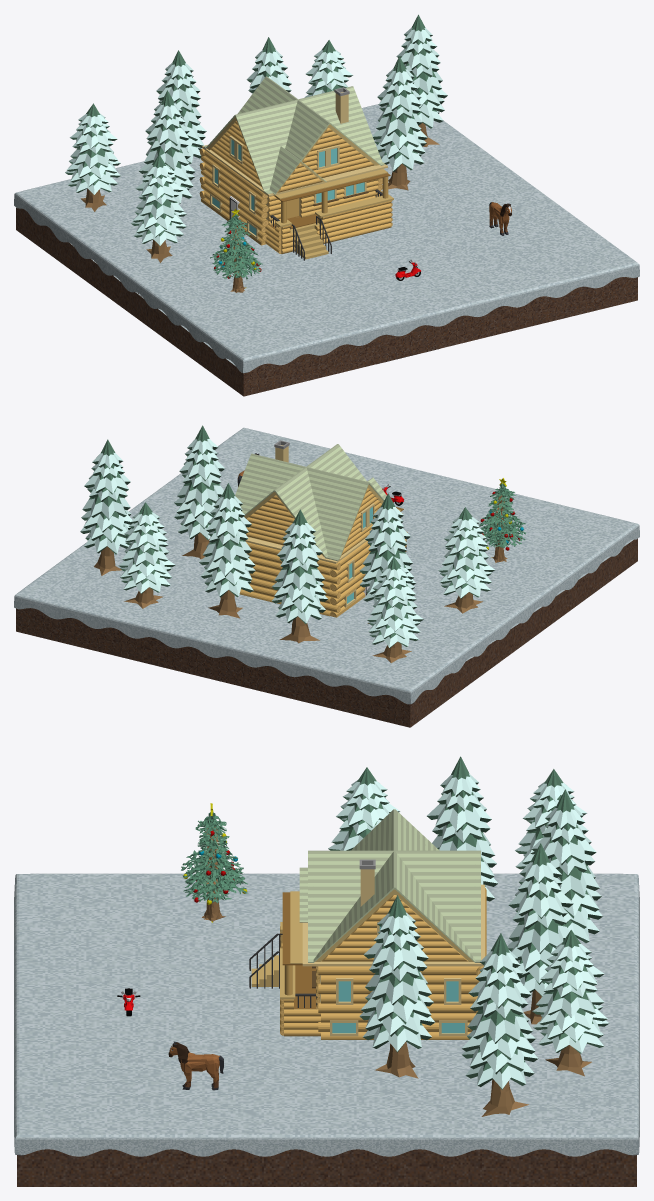
3 views of the same model, one above another, from view 1: azimuth 30°, elevation 25°; view 2: azimuth 150°, elevation 25°; view 3: azimuth 270°, elevation 25° (orthographic). The views are drawn at different scales.
Visible parts, largest first — view 1: Cube.003, Cube.1516, OBJRANDOM_CHRISTMAS_TREE, ANIMAL_CABALLO; view 2: Cube.003, Cube.1516, OBJRANDOM_CHRISTMAS_TREE; view 3: Cube.003, Cube.1516, OBJRANDOM_CHRISTMAS_TREE, ANIMAL_CABALLO.
Part boxes in pixels (left/top/right/bottom): Cube.003: left=14, top=14, right=639, bottom=396; Cube.1516: left=199, top=76, right=393, bottom=260; OBJRANDOM_CHRISTMAS_TREE: left=210, top=209, right=262, bottom=292; ANIMAL_CABALLO: left=489, top=202, right=511, bottom=235; Cube.003: left=14, top=425, right=639, bottom=727; Cube.1516: left=235, top=440, right=407, bottom=617; OBJRANDOM_CHRISTMAS_TREE: left=479, top=478, right=525, bottom=562; Cube.003: left=14, top=756, right=639, bottom=1186; Cube.1516: left=249, top=809, right=486, bottom=1039; OBJRANDOM_CHRISTMAS_TREE: left=181, top=803, right=248, bottom=922; ANIMAL_CABALLO: left=168, top=1041, right=223, bottom=1090.
Size of the model in its own units: 4040 by 1692 by 4040.
Materials: 42 (4 with a texture image).
